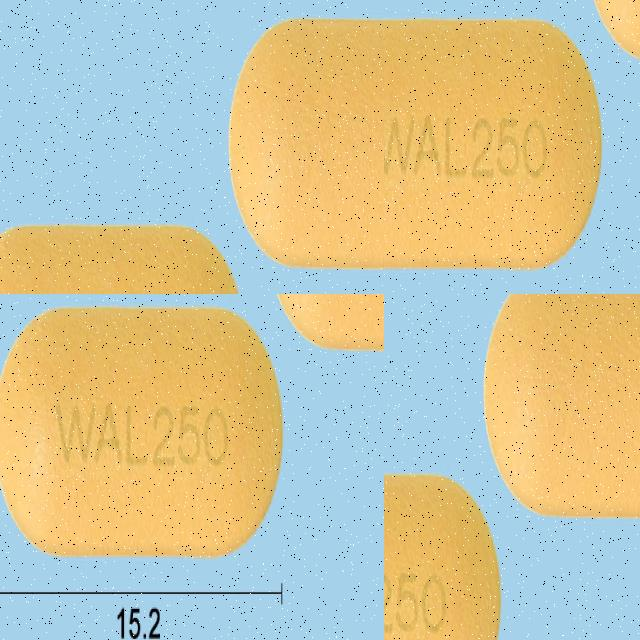Cephamethyl Cap: (0, 330, 341, 562)
Clocin Film Coated Tab: (389, 100, 640, 294)
Clotin: (482, 294, 640, 517), (384, 472, 501, 640)
